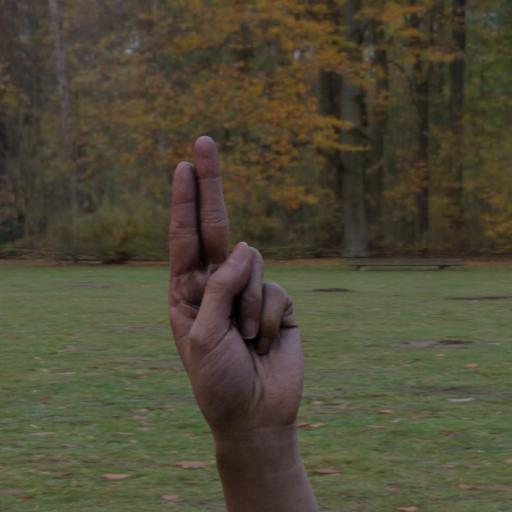U: (157, 129, 314, 449)
